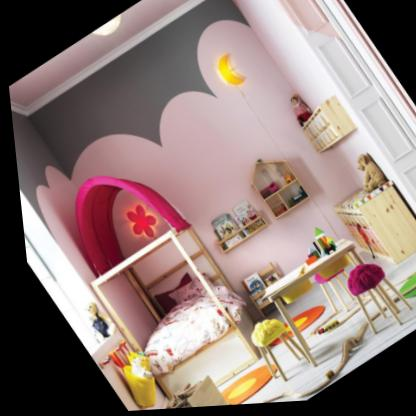Bed: (101, 254, 273, 412)
Table: (244, 229, 400, 376)
